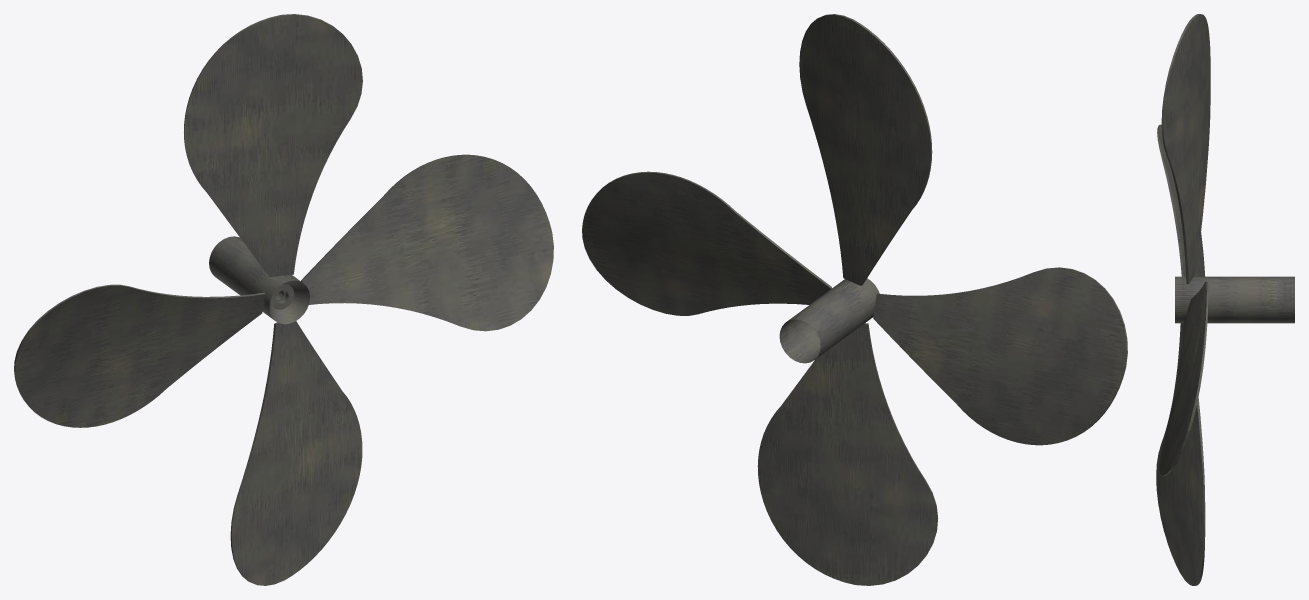
File: Fan.obj
The picture shows the model from 3 angles, left to right: view 1: azimuth 30°, elevation 25°; view 2: azimuth 150°, elevation 25°; view 3: azimuth 270°, elevation 25°; orthographic projection.
Visible parts, largest first — view 1: Mesh7 Componente_3_3 nix_fan1 Model, Mesh3 Componente_3_1 nix_fan1 Model, Mesh9 Componente_3_4 nix_fan1 Model, Mesh5 Componente_3_2 nix_fan1 Model, Mesh1 Componente_2_1 nix_fan1 Model; view 2: Mesh9 Componente_3_4 nix_fan1 Model, Mesh5 Componente_3_2 nix_fan1 Model, Mesh7 Componente_3_3 nix_fan1 Model, Mesh3 Componente_3_1 nix_fan1 Model, Mesh1 Componente_2_1 nix_fan1 Model; view 3: Mesh7 Componente_3_3 nix_fan1 Model, Mesh5 Componente_3_2 nix_fan1 Model, Mesh1 Componente_2_1 nix_fan1 Model, Mesh3 Componente_3_1 nix_fan1 Model, Mesh9 Componente_3_4 nix_fan1 Model.
Part boxes in pixels (x1,y1,x2,y2): Mesh7 Componente_3_3 nix_fan1 Model: [184, 14, 362, 277]; Mesh3 Componente_3_1 nix_fan1 Model: [301, 154, 553, 331]; Mesh9 Componente_3_4 nix_fan1 Model: [14, 284, 265, 427]; Mesh5 Componente_3_2 nix_fan1 Model: [230, 321, 362, 585]; Mesh1 Componente_2_1 nix_fan1 Model: [209, 236, 309, 324]; Mesh9 Componente_3_4 nix_fan1 Model: [873, 267, 1127, 445]; Mesh5 Componente_3_2 nix_fan1 Model: [757, 323, 938, 585]; Mesh7 Componente_3_3 nix_fan1 Model: [799, 14, 932, 285]; Mesh3 Componente_3_1 nix_fan1 Model: [582, 171, 831, 315]; Mesh1 Componente_2_1 nix_fan1 Model: [779, 278, 879, 363]; Mesh7 Componente_3_3 nix_fan1 Model: [1161, 14, 1210, 283]; Mesh5 Componente_3_2 nix_fan1 Model: [1156, 323, 1205, 585]; Mesh1 Componente_2_1 nix_fan1 Model: [1175, 276, 1294, 323]; Mesh3 Componente_3_1 nix_fan1 Model: [1159, 281, 1208, 475]; Mesh9 Componente_3_4 nix_fan1 Model: [1157, 124, 1205, 276].
Bounding box in the file's own units: 36.05 × 36.03 × 8.09.
Materials: 1 (1 with a texture image).
